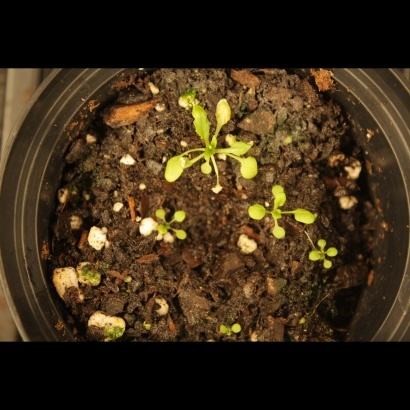leaf: (185, 103, 213, 147), (212, 95, 240, 132), (290, 198, 321, 230), (162, 148, 188, 185), (217, 136, 256, 159), (236, 156, 265, 186), (241, 197, 270, 225), (233, 319, 256, 342), (207, 320, 230, 343), (172, 226, 195, 249), (171, 201, 194, 224), (146, 224, 169, 247), (146, 201, 169, 224), (266, 221, 289, 244), (268, 184, 291, 207), (266, 202, 289, 225), (300, 251, 323, 274), (327, 237, 350, 260), (322, 259, 345, 282), (303, 229, 326, 252), (194, 159, 217, 182)
